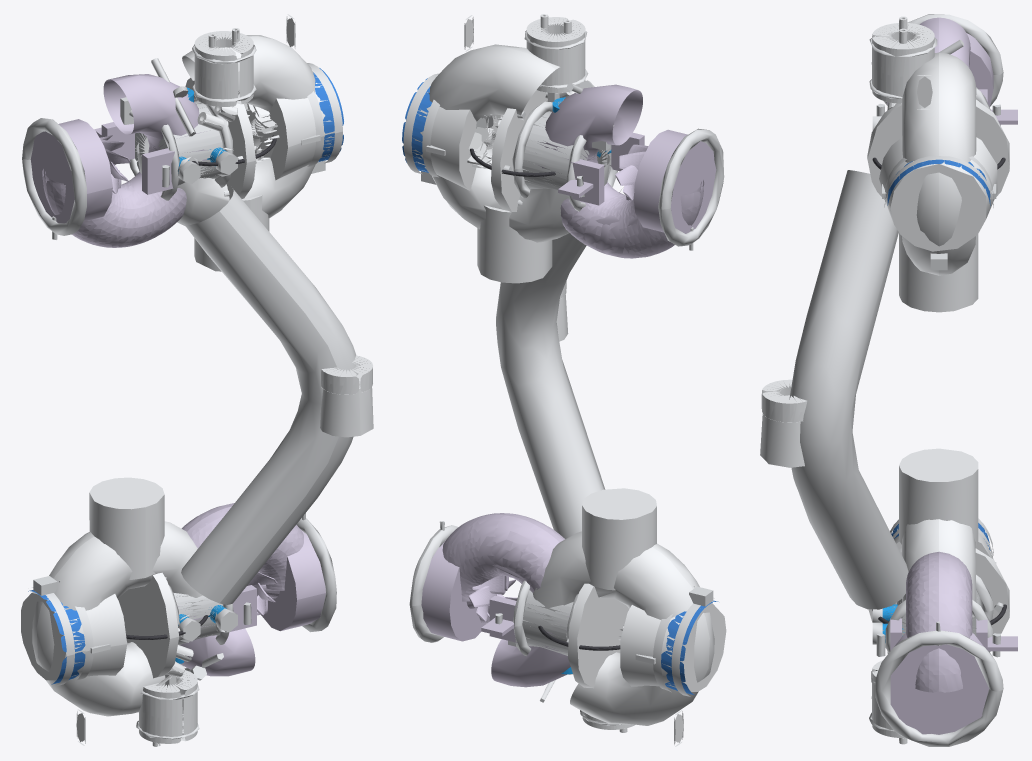
Rendered from turbo_twin.glb.
3 views of the same model, side by side, from view 1: azimuth 30°, elevation 25°; view 2: azimuth 150°, elevation 25°; view 3: azimuth 270°, elevation 25° (orthographic). The views are drawn at different scales.
Parts seen in each view (by area): view 1: Anti_Surge_Ported_Air_Inlet_Snout, Adjustable_Wastegate_Linkage_Rod, Divided_TwinScroll_Turbine_Volute, DualPort_Wastegate_Canister, Inconel_Foil_Turbine_Thermal_Blanket, CHRA_Bearing_Center_Housing, Silicone_Inlet_Coupler_Boot, AN4_Hex_Nut_Body; view 2: Anti_Surge_Ported_Air_Inlet_Snout, Adjustable_Wastegate_Linkage_Rod, Divided_TwinScroll_Turbine_Volute, Inconel_Foil_Turbine_Thermal_Blanket, CHRA_Bearing_Center_Housing, DualPort_Wastegate_Canister, Silicone_Inlet_Coupler_Boot, AN4_Hex_Nut_Body, Backplate_Viton_O_Ring; view 3: Adjustable_Wastegate_Linkage_Rod, Anti_Surge_Ported_Air_Inlet_Snout, Divided_TwinScroll_Turbine_Volute, Inconel_Foil_Turbine_Thermal_Blanket, DualPort_Wastegate_Canister, Silicone_Inlet_Coupler_Boot, AN4_Hex_Nut_Body.
Part boxes in pixels (x1=…): Anti_Surge_Ported_Air_Inlet_Snout: x1=21, y1=35, x2=373, y2=716; Adjustable_Wastegate_Linkage_Rod: x1=22, y1=37, x2=359, y2=739; Divided_TwinScroll_Turbine_Volute: x1=30, y1=74, x2=325, y2=676; DualPort_Wastegate_Canister: x1=138, y1=31, x2=373, y2=743; Inconel_Foil_Turbine_Thermal_Blanket: x1=42, y1=131, x2=303, y2=627; CHRA_Bearing_Center_Housing: x1=135, y1=101, x2=223, y2=644; Silicone_Inlet_Coupler_Boot: x1=28, y1=68, x2=343, y2=684; AN4_Hex_Nut_Body: x1=76, y1=14, x2=295, y2=746; Anti_Surge_Ported_Air_Inlet_Snout: x1=412, y1=44, x2=726, y2=725; Adjustable_Wastegate_Linkage_Rod: x1=403, y1=22, x2=724, y2=725; Divided_TwinScroll_Turbine_Volute: x1=421, y1=84, x2=716, y2=687; Inconel_Foil_Turbine_Thermal_Blanket: x1=442, y1=141, x2=704, y2=647; CHRA_Bearing_Center_Housing: x1=522, y1=111, x2=611, y2=655; DualPort_Wastegate_Canister: x1=526, y1=17, x2=635, y2=729; Silicone_Inlet_Coupler_Boot: x1=402, y1=78, x2=718, y2=694; AN4_Hex_Nut_Body: x1=464, y1=14, x2=683, y2=746; Backplate_Viton_O_Ring: x1=470, y1=148, x2=620, y2=650; Adjustable_Wastegate_Linkage_Rod: x1=789, y1=14, x2=1003, y2=746; Anti_Surge_Ported_Air_Inlet_Snout: x1=760, y1=52, x2=1009, y2=648; Divided_TwinScroll_Turbine_Volute: x1=887, y1=17, x2=1017, y2=734; Inconel_Foil_Turbine_Thermal_Blanket: x1=906, y1=551, x2=972, y2=692; DualPort_Wastegate_Canister: x1=761, y1=23, x2=934, y2=738; Silicone_Inlet_Coupler_Boot: x1=887, y1=159, x2=990, y2=550; AN4_Hex_Nut_Body: x1=899, y1=16, x2=932, y2=744.
Bounding box in the file's own units: 0.2356 × 0.5482 × 0.1728.
